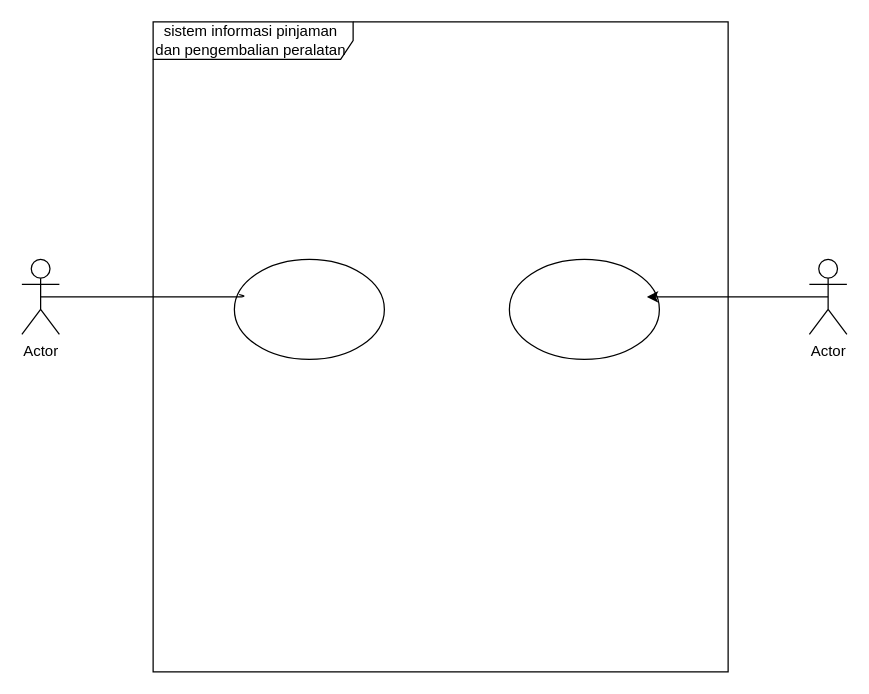
The diagram is 869 pixels wide and 694 high, and some of its shapes have lost their labels. Here are the shapes that lost their labels. From the top down, the centre of each, then its label:
(x=308, y=308): liat keseterdian peralatan
(x=583, y=308): kelola data peralatan
